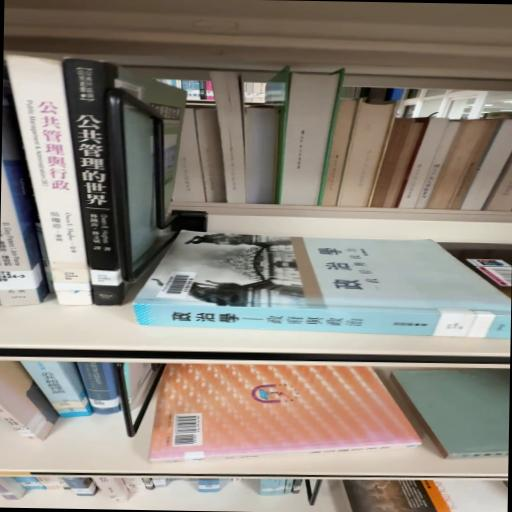flat: (134, 231, 512, 339), (150, 365, 422, 463)
